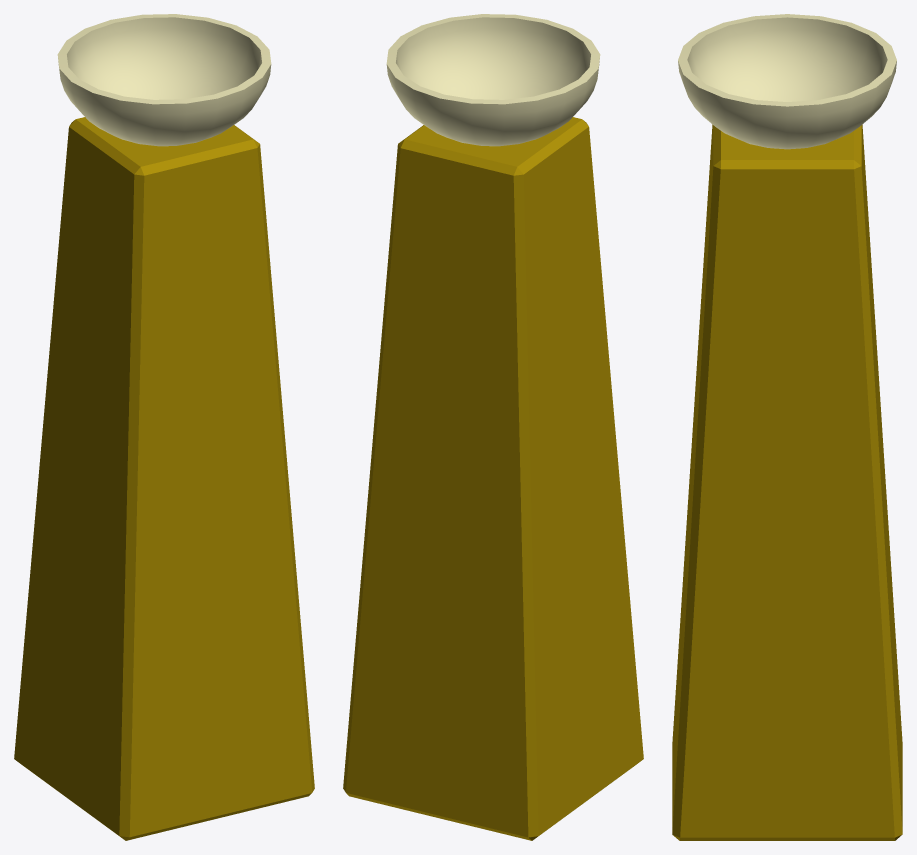
Rendered from torche02.fbx.
3 renders of one model, left to right at view 1: azimuth 30°, elevation 25°; view 2: azimuth 150°, elevation 25°; view 3: azimuth 270°, elevation 25°, orthographic.
Parts seen in each view (by area): view 1: group2_pCube1; view 2: group2_pCube1; view 3: group2_pCube1.
Boxes of the visible parts, x1=… form: group2_pCube1: x1=14, y1=14, x2=314, y2=840; group2_pCube1: x1=343, y1=14, x2=643, y2=840; group2_pCube1: x1=672, y1=14, x2=902, y2=840.
Size of the model in its own units: 1.39 by 4.89 by 1.39.
